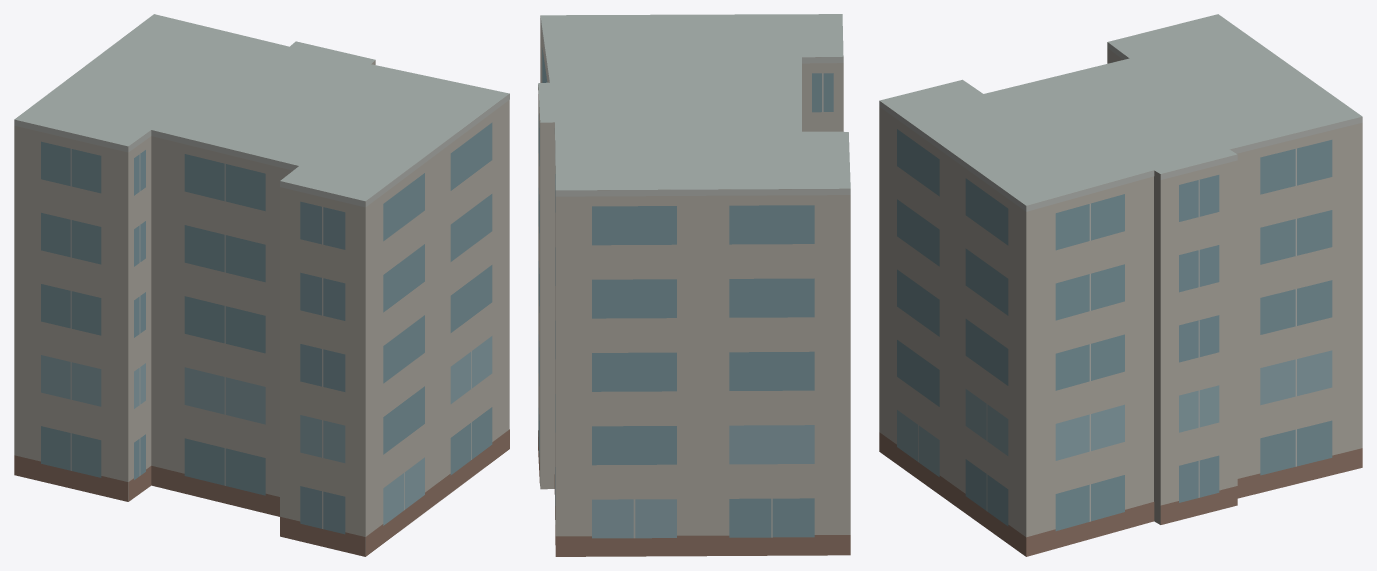
Rendered from survey-upis-32856329.glb.
3 views of the same model, side by side, from view 1: azimuth 30°, elevation 25°; view 2: azimuth 150°, elevation 25°; view 3: azimuth 270°, elevation 25° (orthographic). The views are drawn at different scales.
Visible parts, largest first — view 1: survey-upis-32856329.tmp; view 2: survey-upis-32856329.tmp; view 3: survey-upis-32856329.tmp.
Boxes of the visible parts, x1=… form: survey-upis-32856329.tmp: x1=14, y1=14, x2=509, y2=556; survey-upis-32856329.tmp: x1=538, y1=14, x2=850, y2=556; survey-upis-32856329.tmp: x1=879, y1=14, x2=1362, y2=556.
Bounding box in the file's own units: 16.65 × 14.2 × 17.73.
